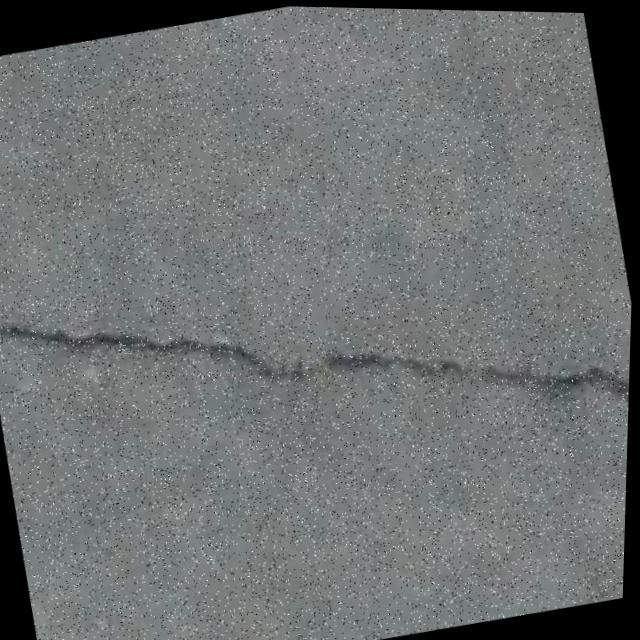Crack: (0, 191, 636, 543)
